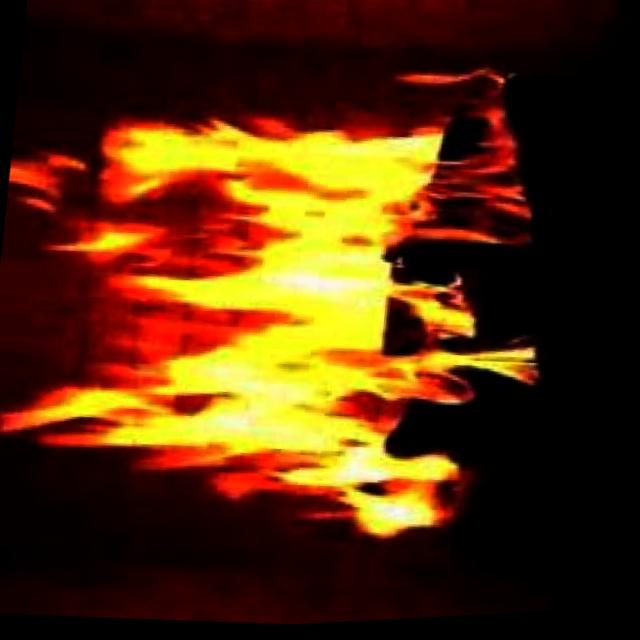Smoke: (0, 31, 573, 581)
